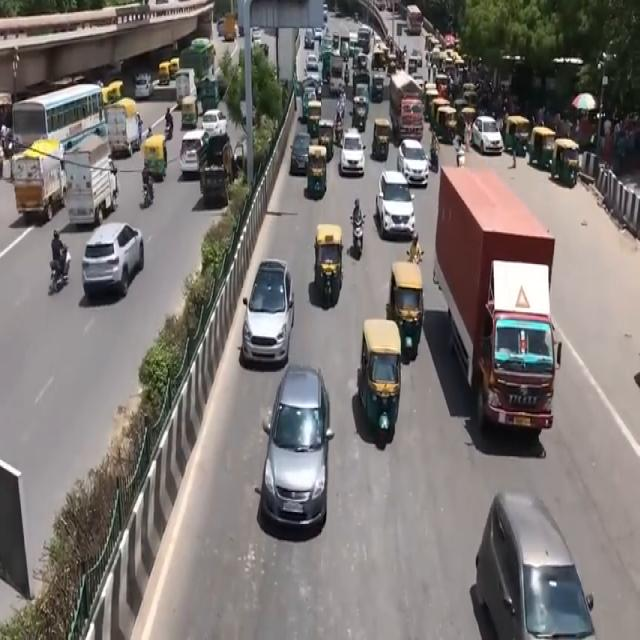BUS: (15, 87, 107, 156)
TRUCK: (441, 167, 562, 449), (14, 148, 67, 226)
